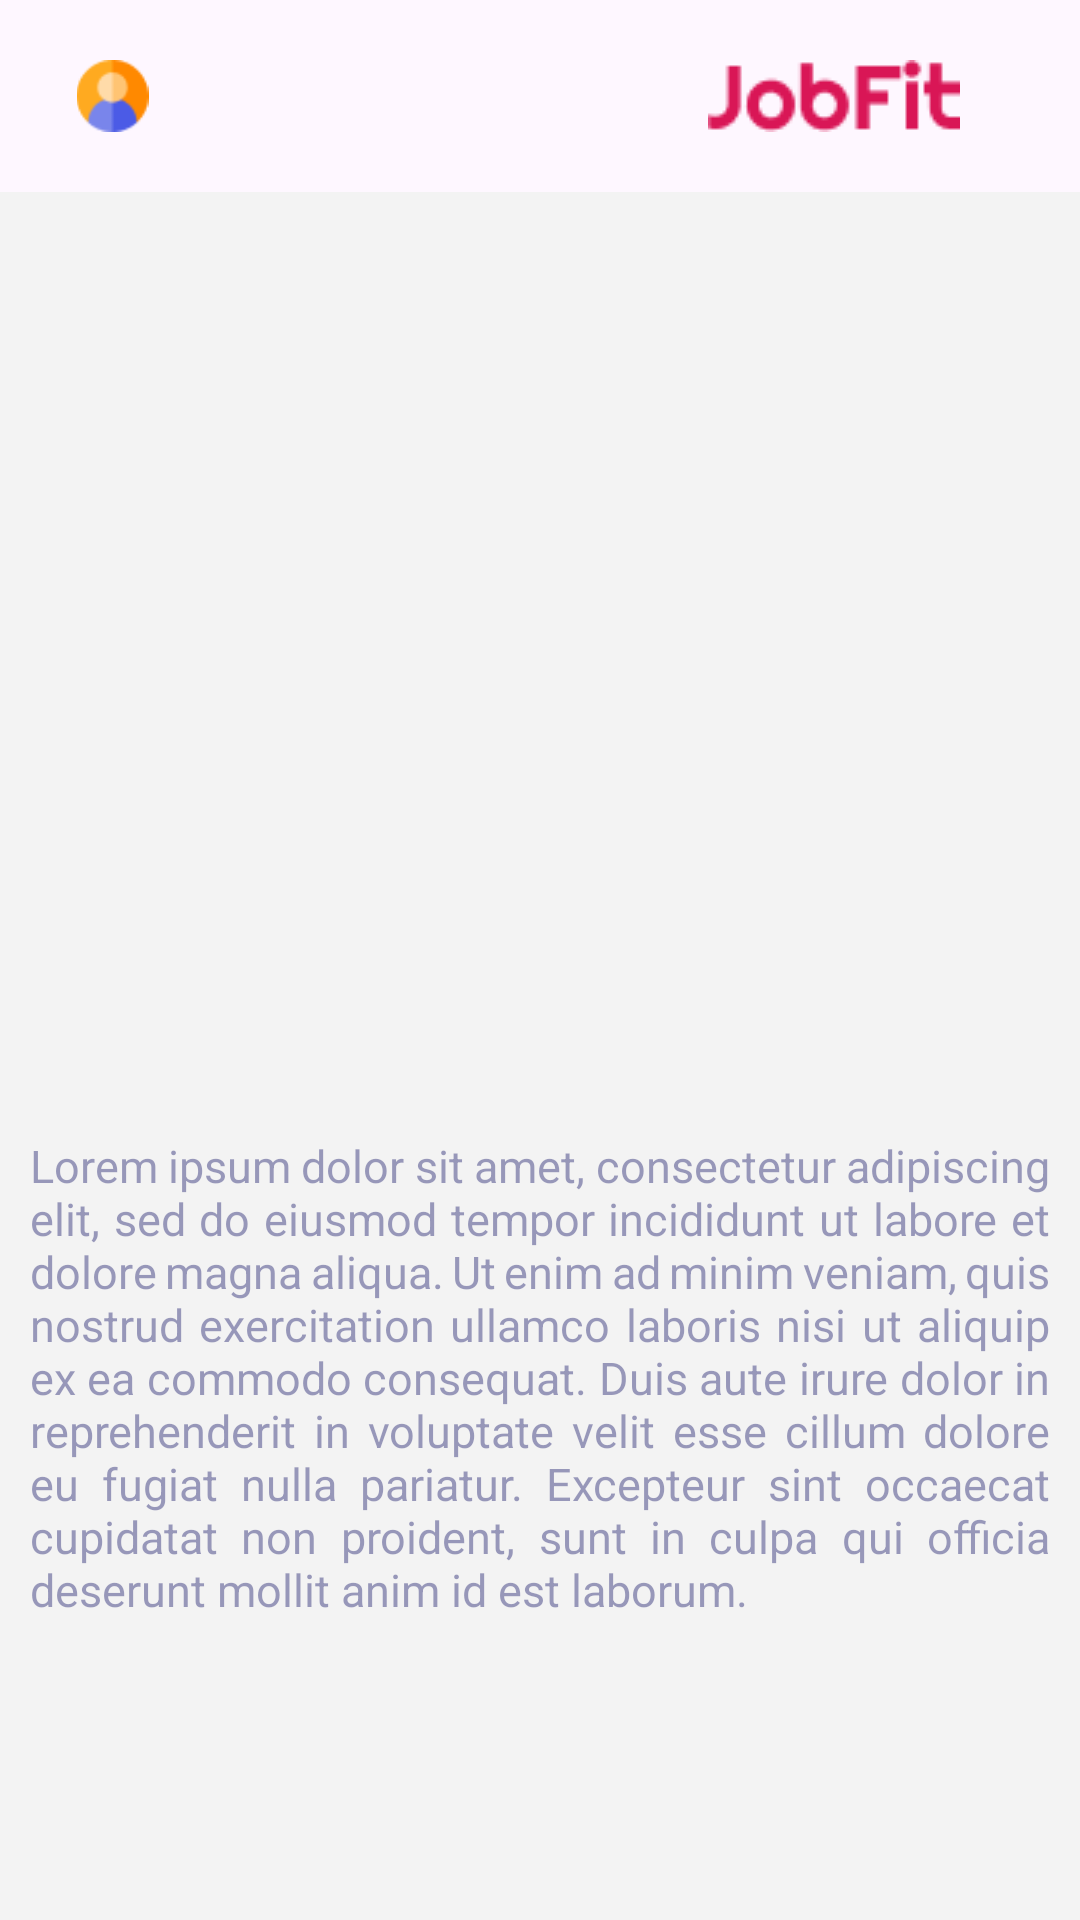

Where icons sit on this 1080px x 1920px app screen, as (left=x1, top=y1, right=x2, bottom=y2):
user head: (left=77, top=60, right=149, bottom=132)
